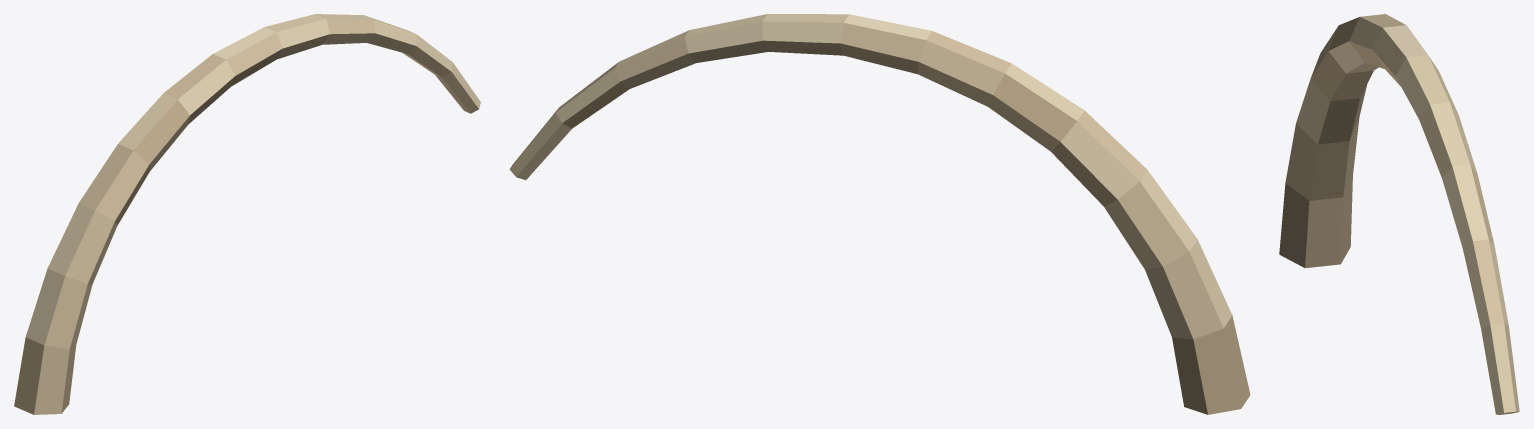
The model's file is SM_BONE_RIB_02.fbx.
3 views of the same model, side by side, from view 1: azimuth 30°, elevation 25°; view 2: azimuth 150°, elevation 25°; view 3: azimuth 270°, elevation 25° (orthographic). The views are drawn at different scales.
Parts seen in each view (by area): view 1: BONE_RIB_02; view 2: BONE_RIB_02; view 3: BONE_RIB_02.
Part boxes in pixels (bbox=[...]): BONE_RIB_02: bbox=[14, 14, 480, 414]; BONE_RIB_02: bbox=[509, 14, 1250, 414]; BONE_RIB_02: bbox=[1279, 14, 1519, 414].
Bounding box in the file's own units: 3.25 × 0.977 × 1.64.
